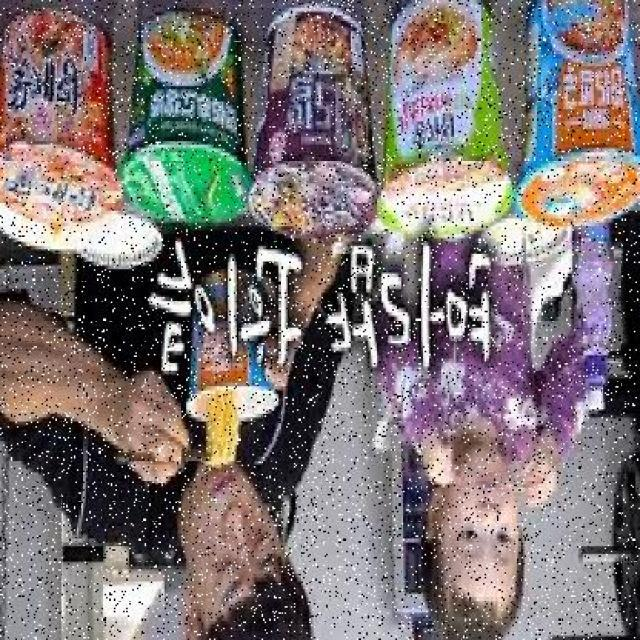Miscellaneous: (377, 0, 517, 246), (254, 9, 388, 240), (517, 0, 640, 234), (127, 18, 256, 234), (0, 15, 125, 231), (190, 277, 284, 434)
